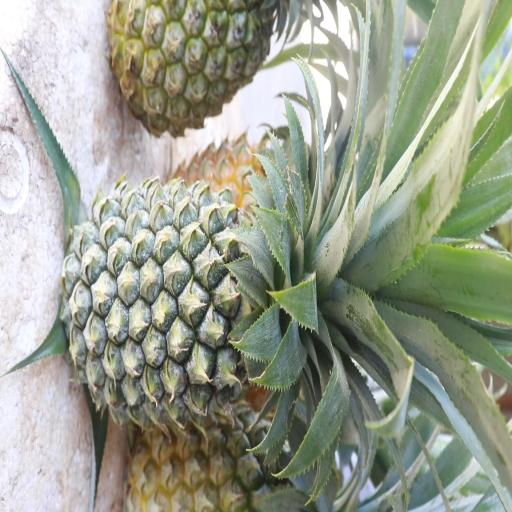------------------------------: (110, 0, 283, 129)
